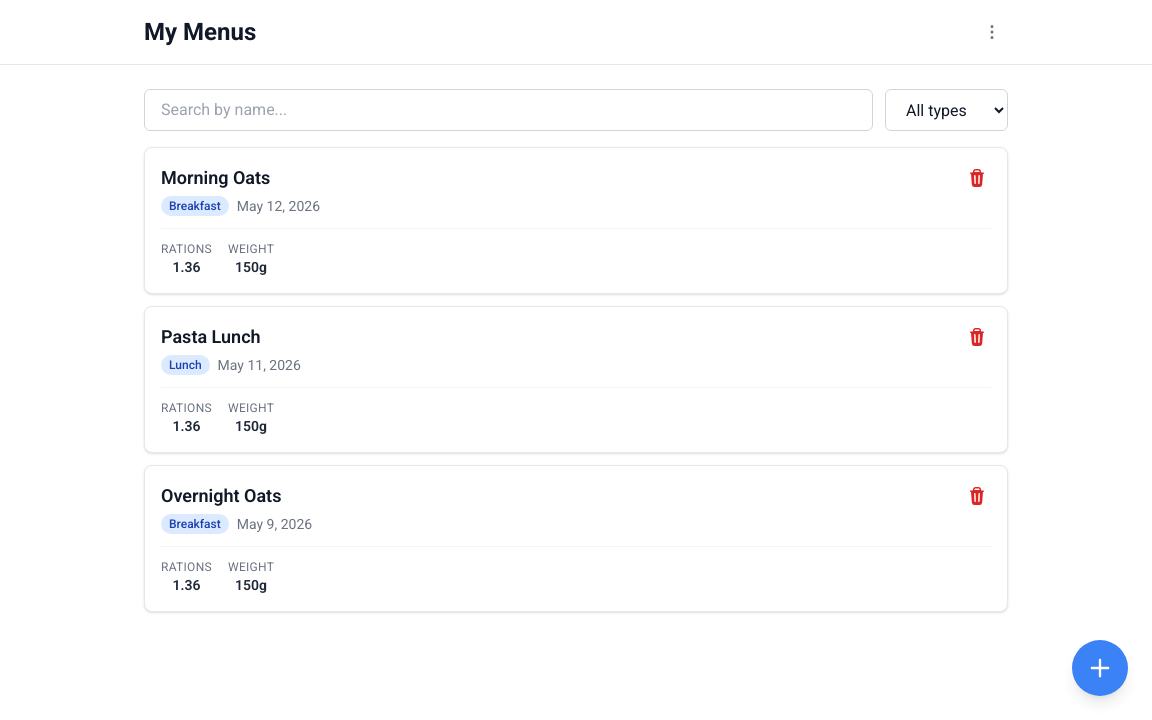
HomePage — type filter + combined AND filter (T023) › applies name and type filters together (AND logic)
Select "Breakfast" in the dropdown: (946, 110) [885,89,1008,131]
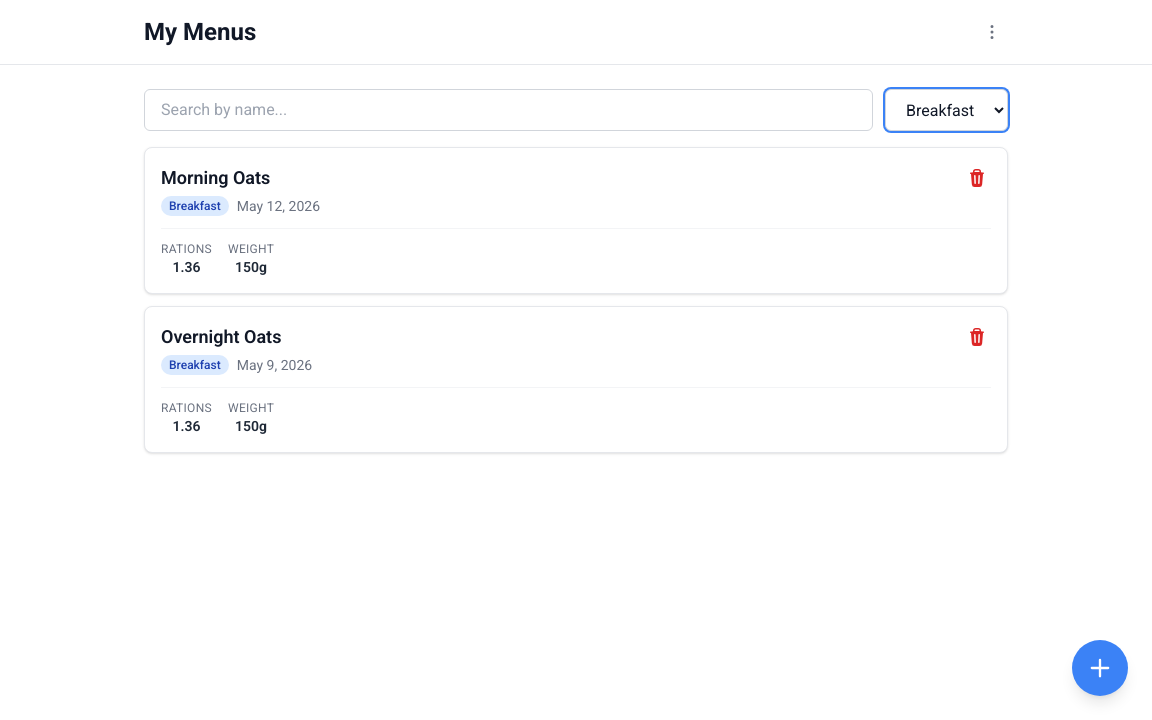
In the field with placeholder "Search by name...": (508, 110) [144,89,873,131], type "Morning"
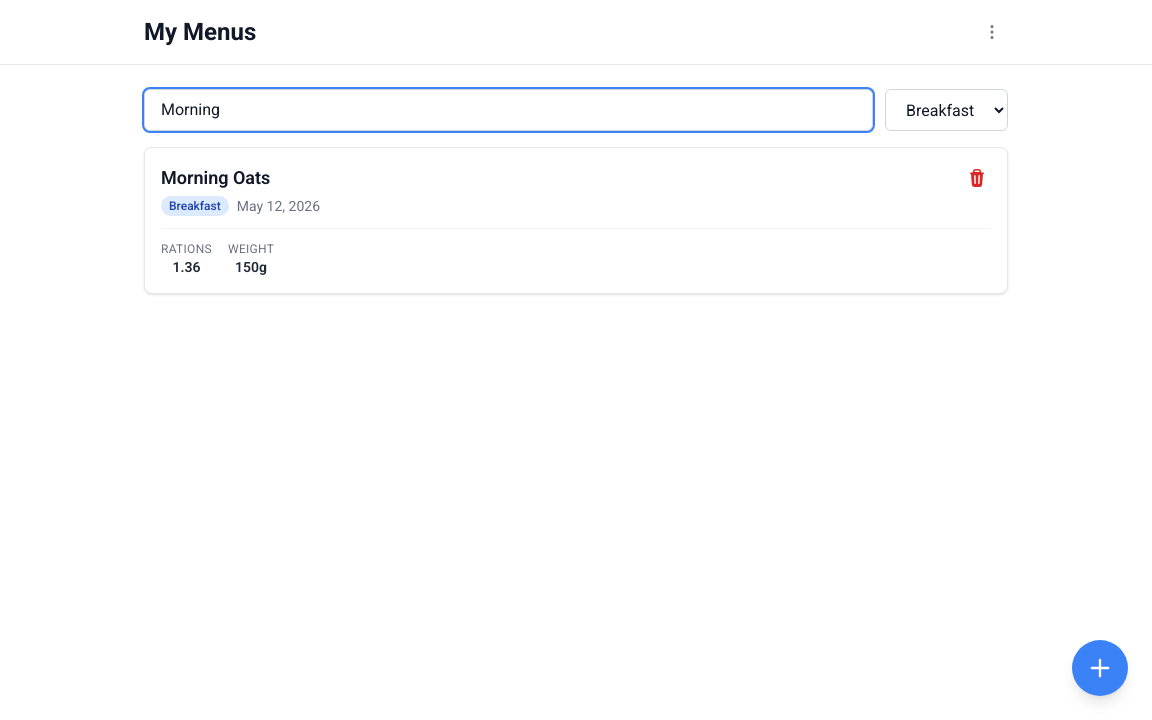
Expected: the heading "Morning Oats" is shown, [161,167,270,188]
Expected: the link "Overnight Oats" is gone
